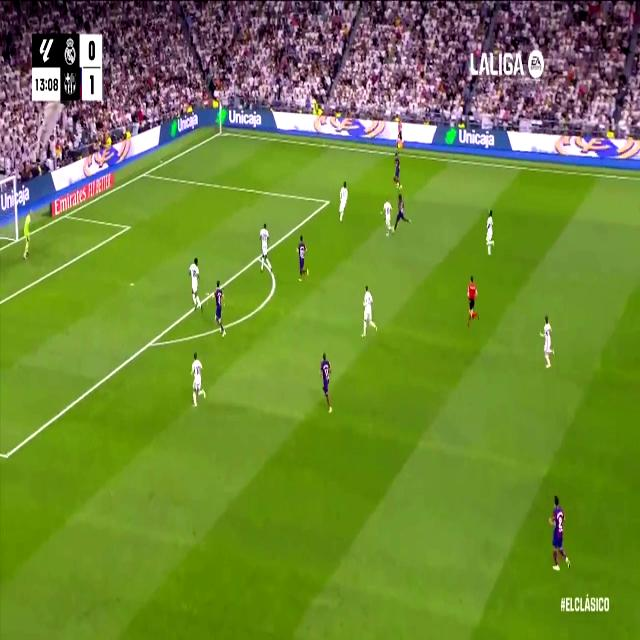bigarea_bottom_inner: (1, 440, 12, 470)
bigarea_top_inner: (324, 193, 330, 210)
bigarea_top_outter: (142, 168, 147, 179)
bottom_arc_area_intersection: (146, 332, 156, 353)
corner: (218, 128, 224, 136)
smallarea_top_inner: (125, 220, 131, 233)
top_arc_area_intersection: (256, 251, 262, 263)
